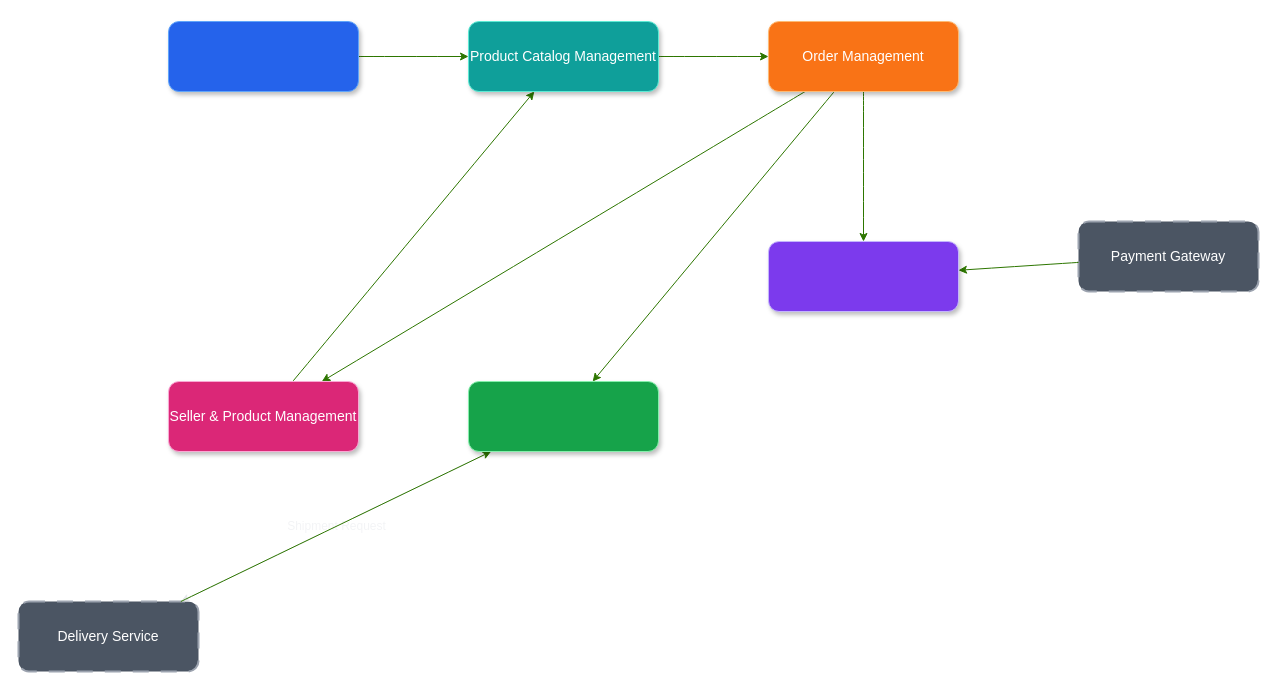
Image size: 1276x690. Some labels were removed from this diagram. The shapes that lost their labels are listed below. From the top down, each one's centre as x and y in pixels, then its label:
point 264,57: Customer Account Management
point 864,277: Payment Processing Interface
point 564,417: Delivery / Shipment Tracking
